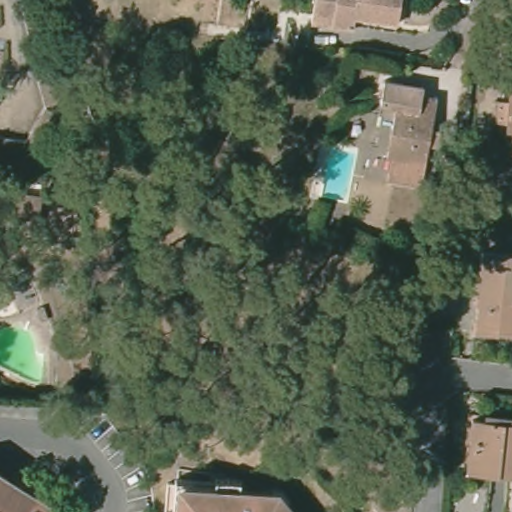pool: (1, 317, 54, 384), (315, 140, 361, 202)
